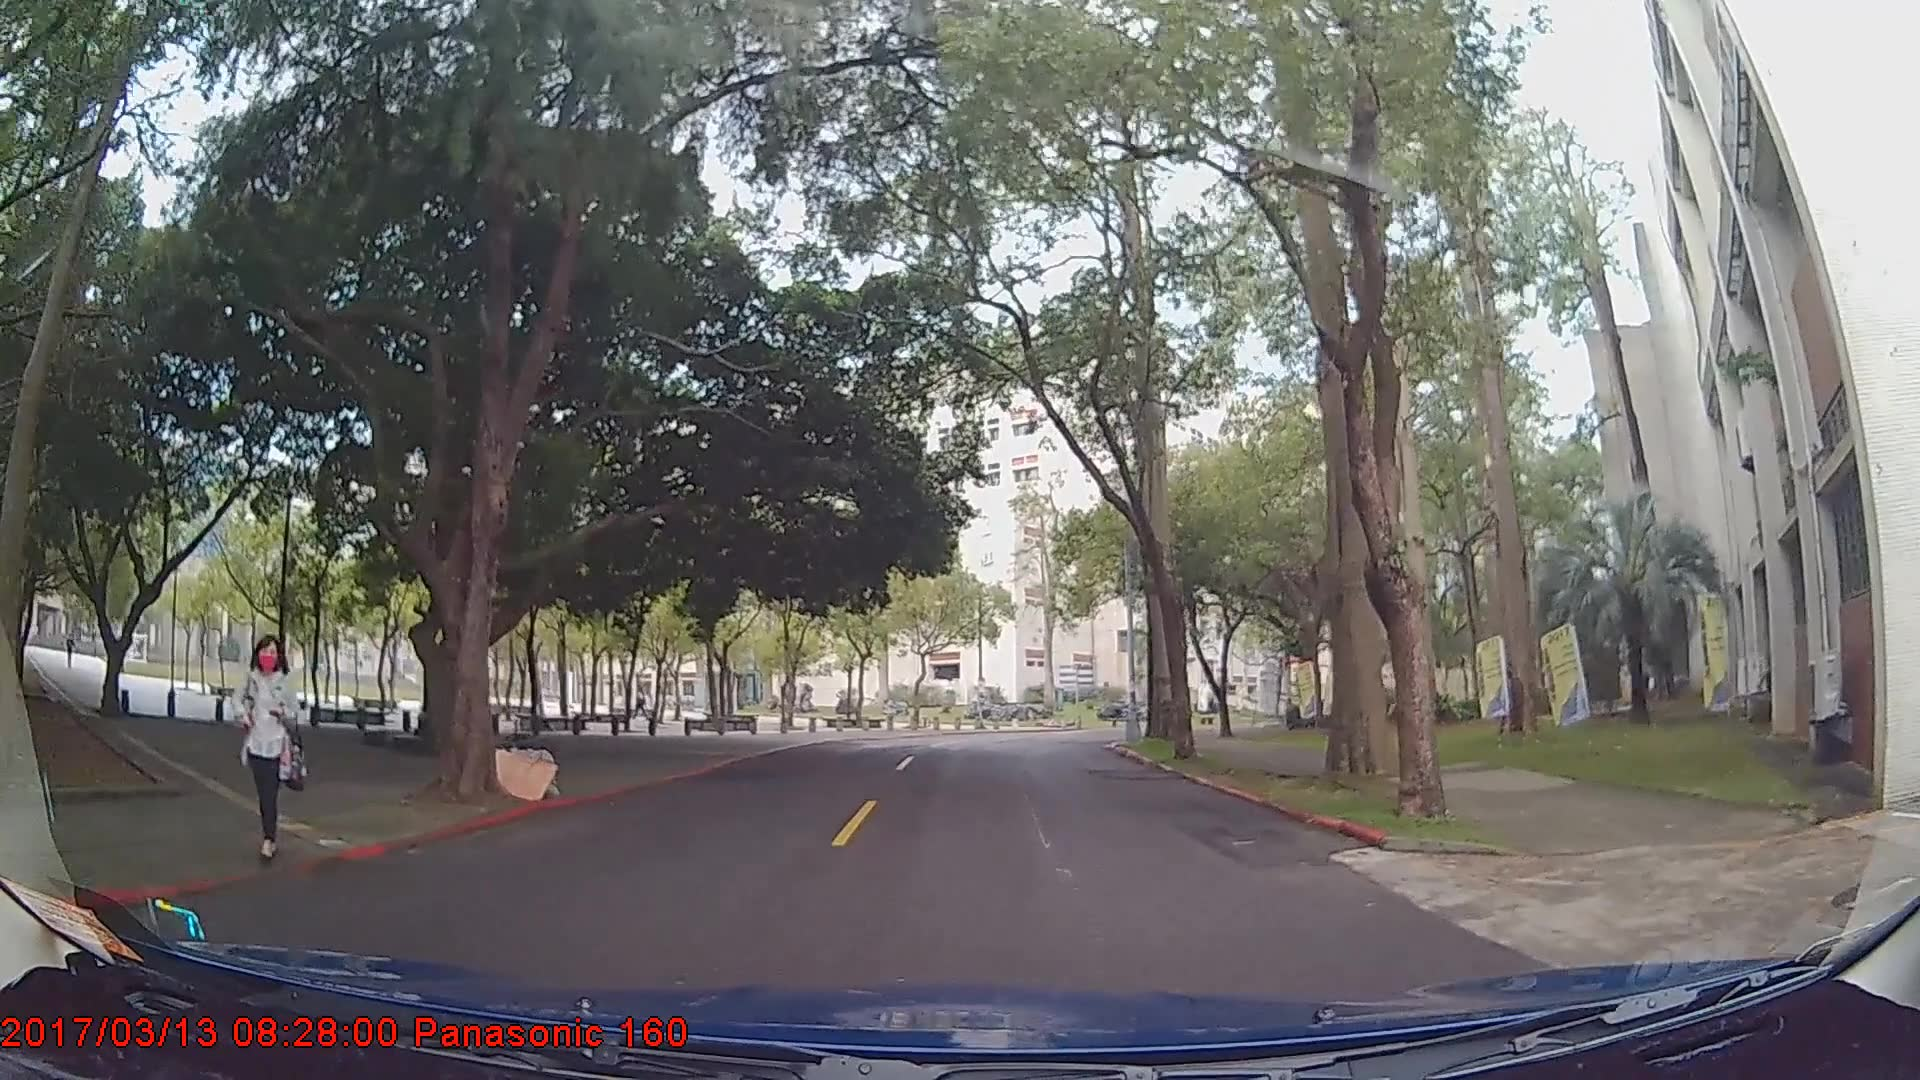pedestrian: (233, 634, 313, 865)
